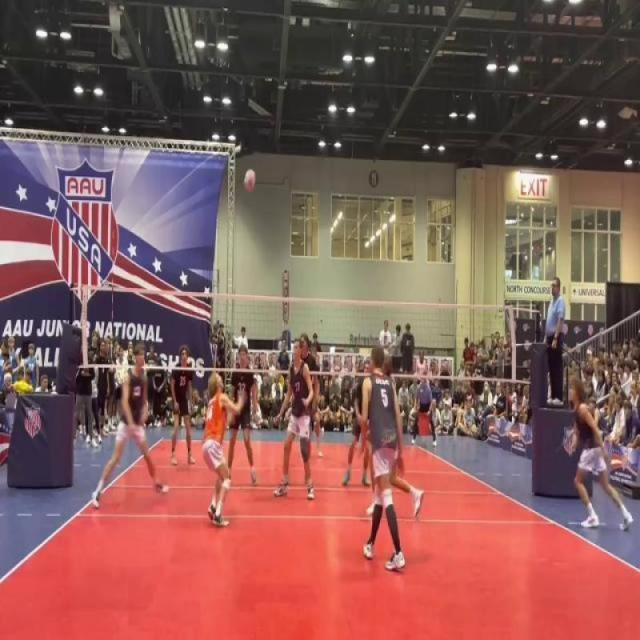volleyball: (242, 167, 258, 194)
